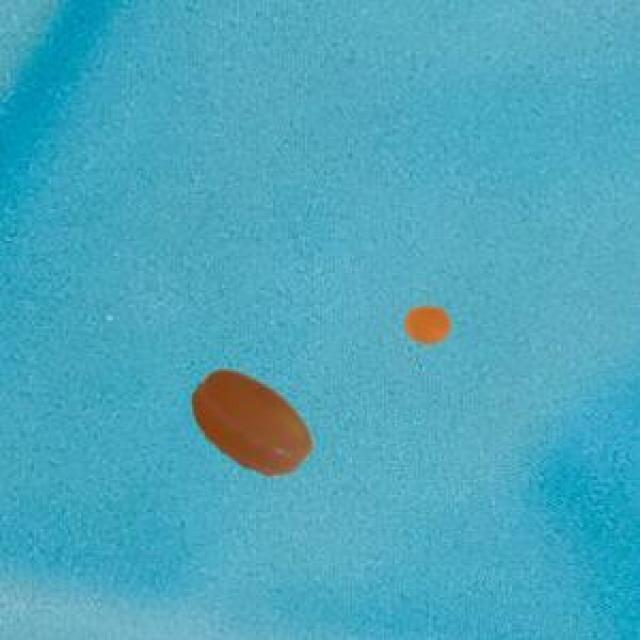Bactidol: (180, 356, 321, 487), (392, 290, 459, 358)
